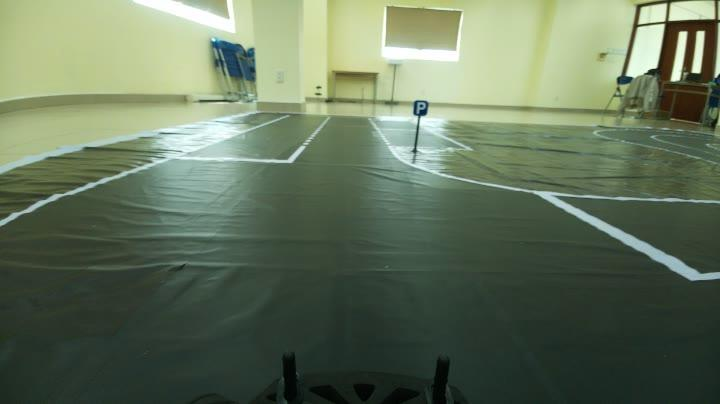parking: (413, 99, 431, 118)
